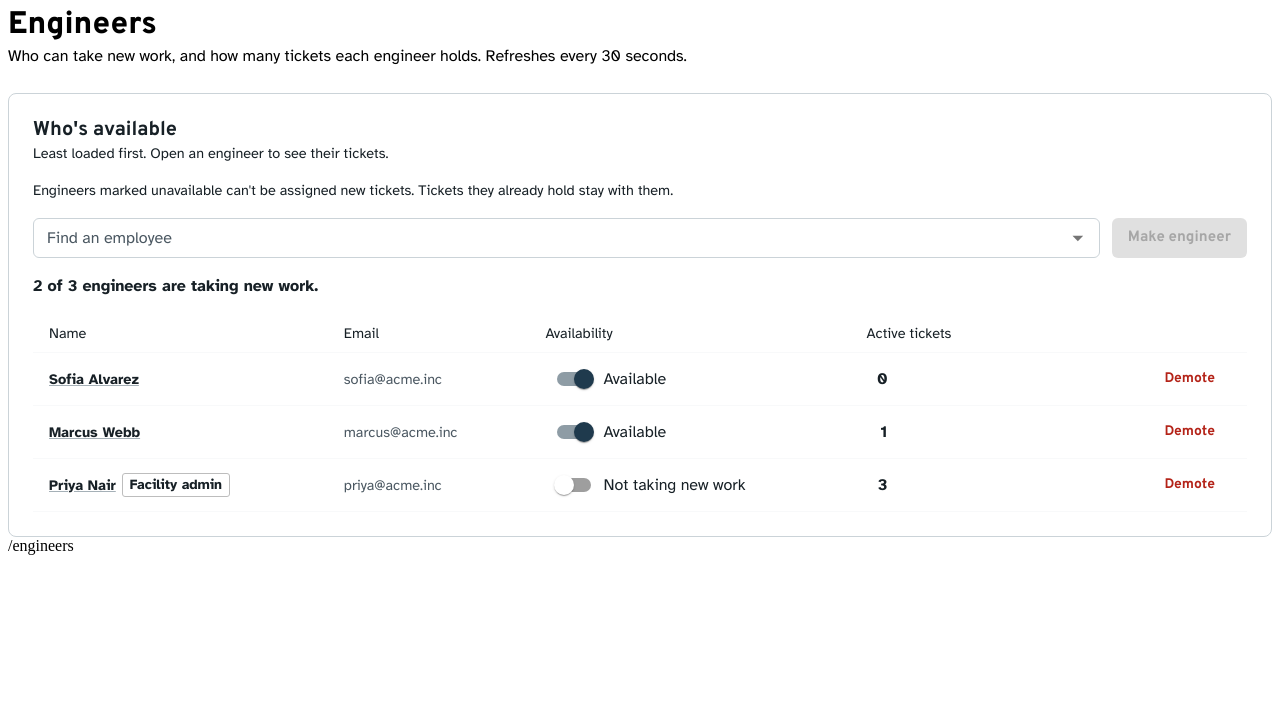
Test: Who's available › asks before demoting, states what happens to the tickets, and sends nothing on cancel
Click the button with aria-label "Demote Priya Nair".
click(1190, 485)  # box [1148,465,1231,505]
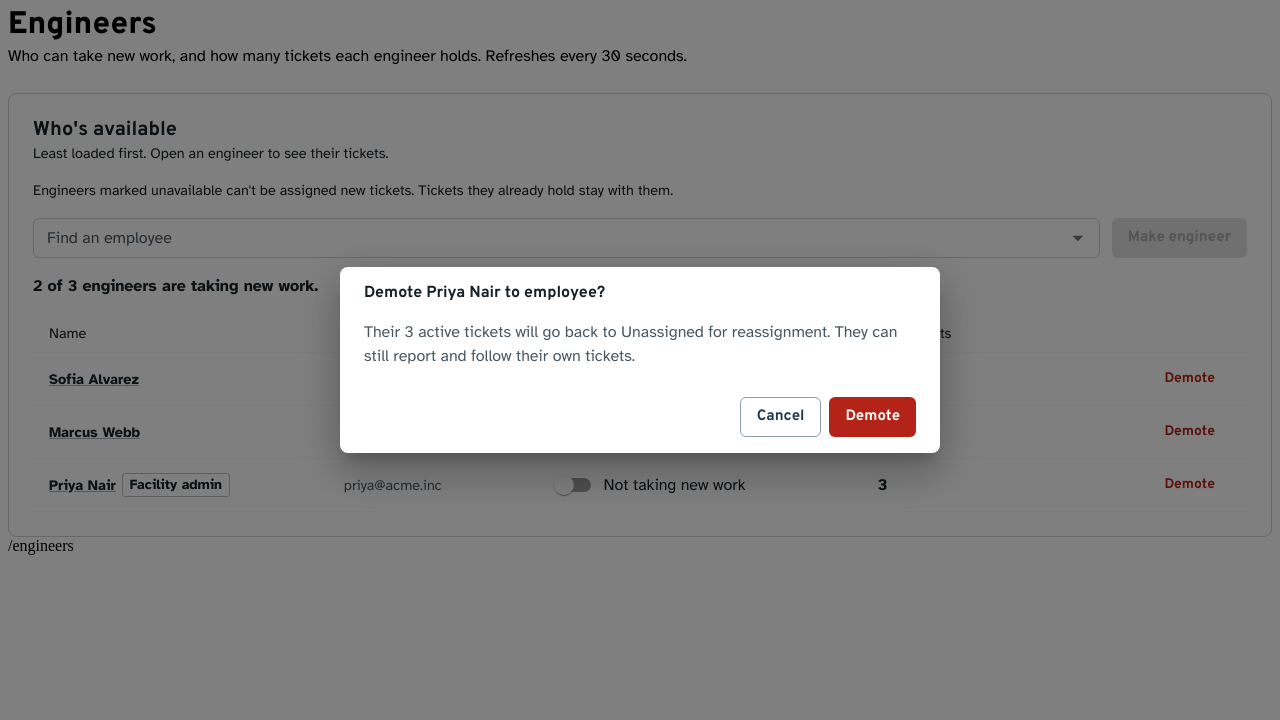
expect the dialog "Demote Priya Nair to employee?" shows "Their 3 active tickets will go back to Unassigned for reassignment.": met, box [364,322,830,342]
Click the button "Cancel".
click(780, 417)  # box [740,397,821,437]
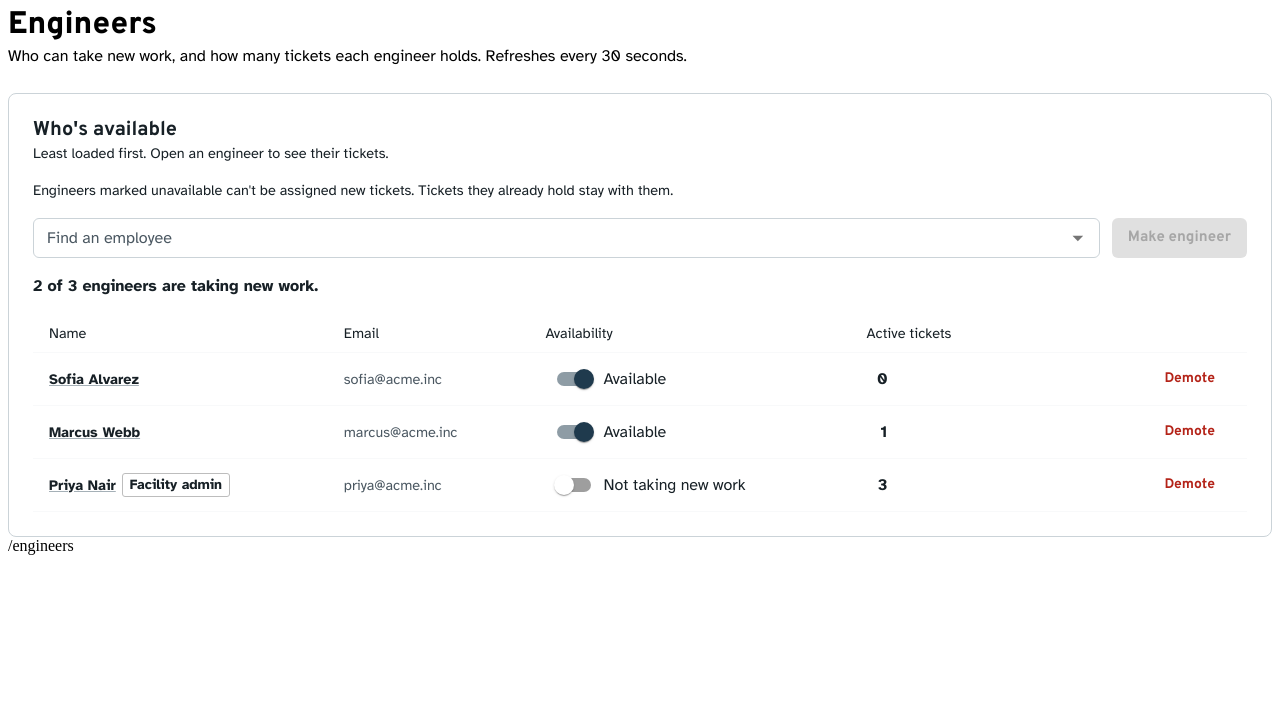
expect the dialog is gone: met
Click the button with aria-label "Demote Marcus Webb".
click(1190, 432)  # box [1148,412,1231,452]
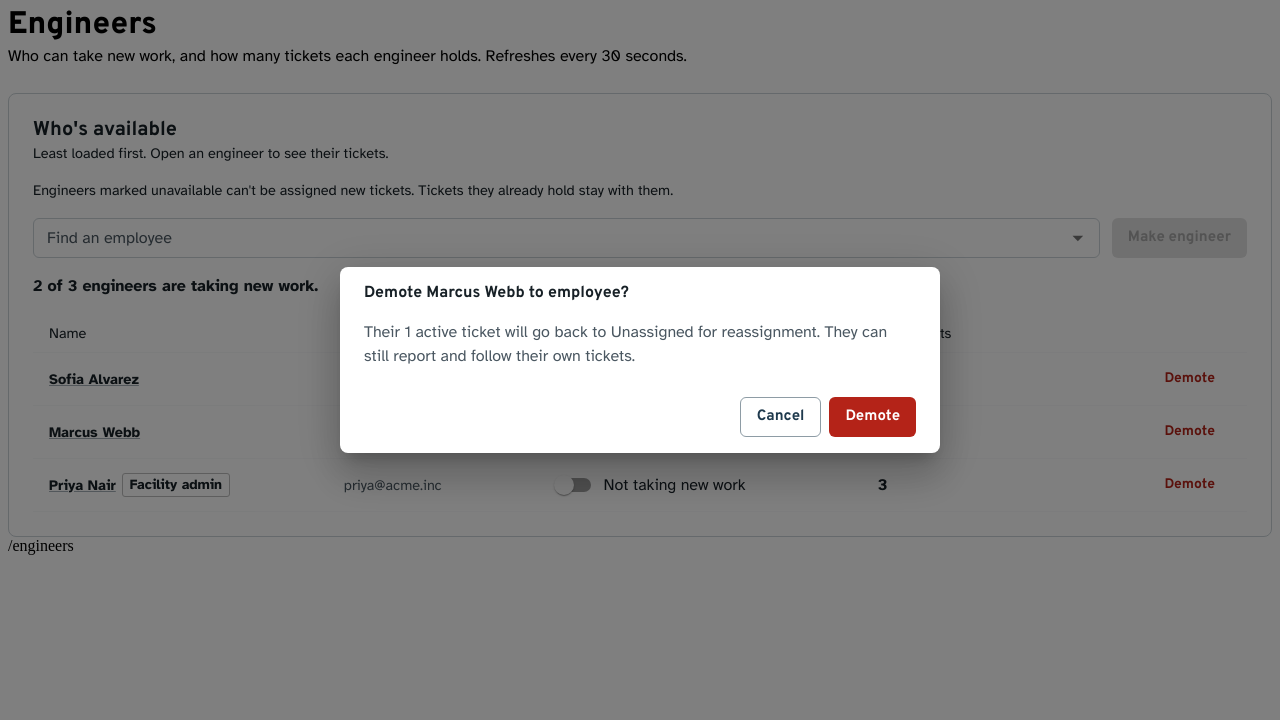
expect the dialog shows "Their 1 active ticket will go back to Unassigned for reassignment.": met, box [364,322,820,342]
